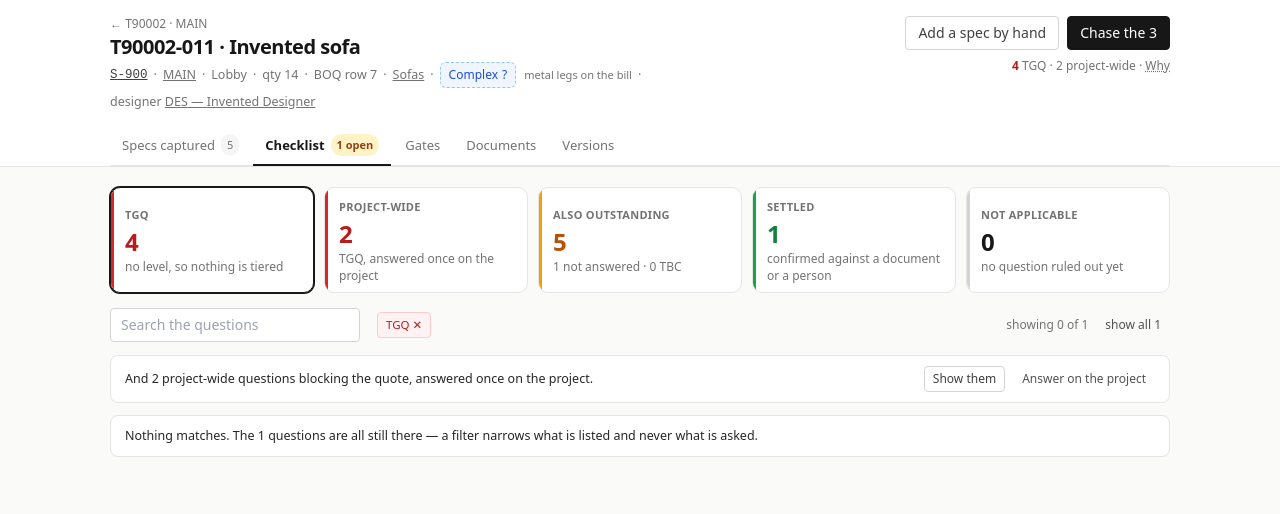
Test case: the other tabs › renders the checklist with its open count
Expected: the heading "T90002-011 · Invented sofa" is shown, 110,33 -> 360,60
Expected: the text "1 open" is shown, 331,134 -> 379,156
Click the button "show all 1" at point(1133, 325), box 1096,312 -> 1170,338
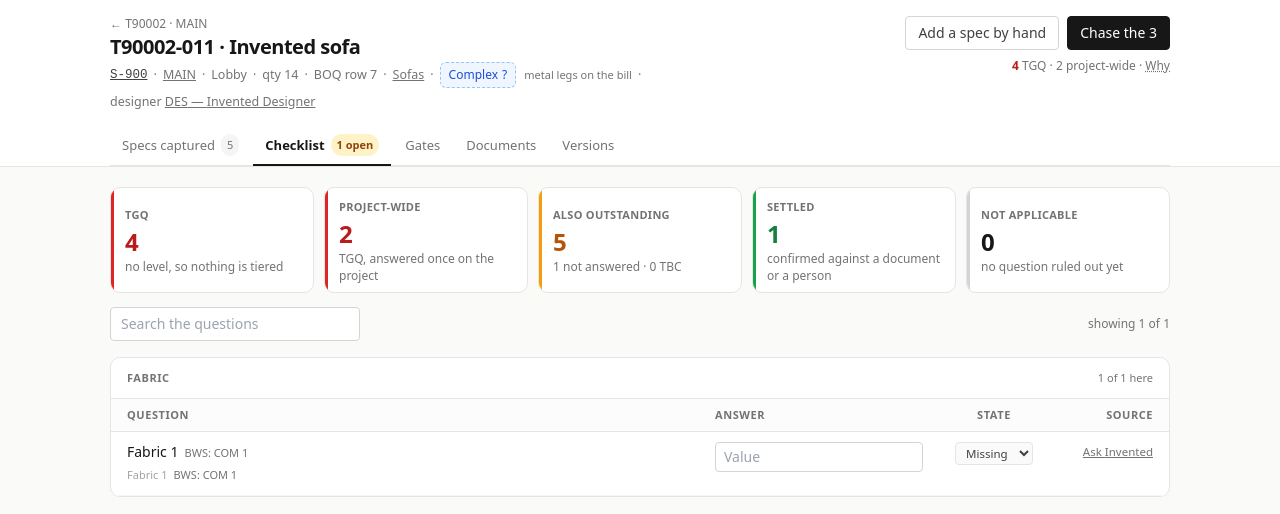
Now the text "COM 1" is shown, box 214,445 -> 248,460
